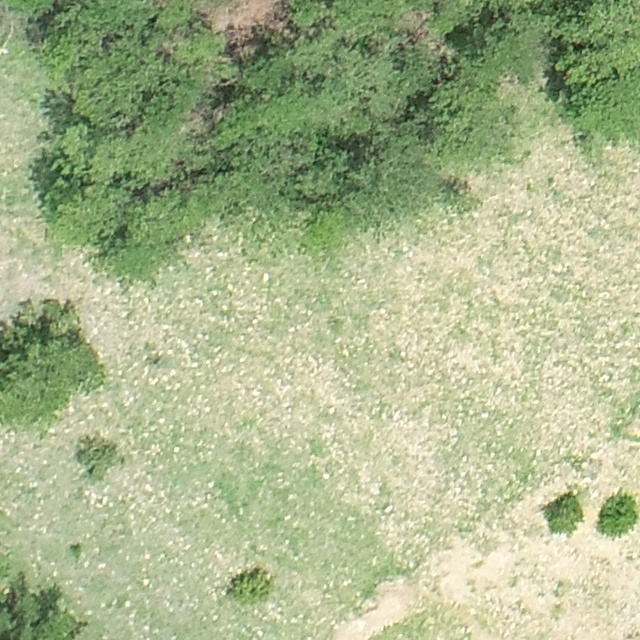unhealthy: (202, 0, 292, 50)
